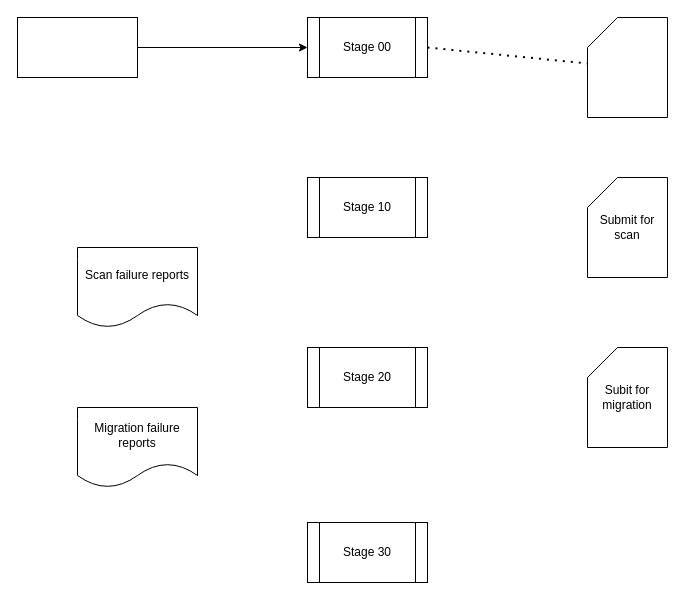
Some shapes in this 685 by 600 pixel diagram are drawn without their labels. The box of each missing label's shape, as (x1, y1, x2, y2) in pixels:
Check user exists Create OneDrive: (586, 16, 668, 118)
Submit users for migration: (16, 16, 138, 78)
